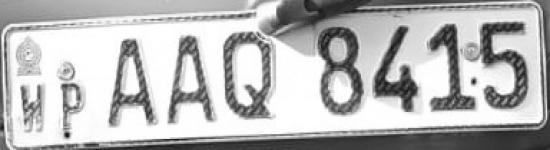1: (426, 17, 479, 116)
4: (370, 18, 426, 119)
5: (480, 15, 536, 115)
8: (315, 22, 368, 122)
A: (162, 29, 222, 129), (105, 33, 161, 130)
P: (52, 81, 91, 136)
Q: (222, 27, 279, 126)
W: (16, 80, 48, 137)
